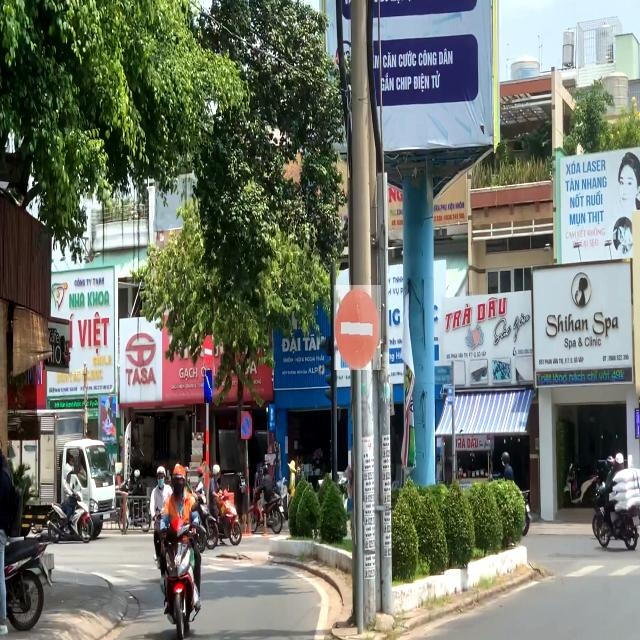bien_hieu_lenh: (334, 285, 381, 370), (203, 335, 214, 367), (241, 411, 252, 439), (204, 370, 212, 403)
